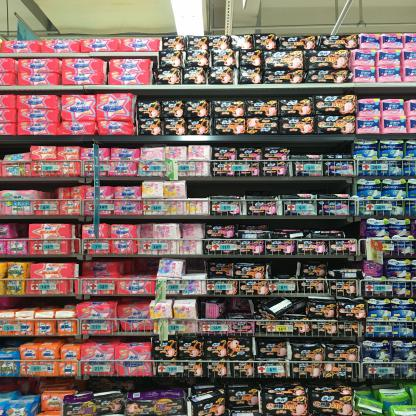Void: (188, 181, 352, 193), (288, 144, 354, 155), (361, 88, 414, 99), (124, 256, 155, 274), (272, 258, 298, 274), (15, 219, 30, 238), (5, 138, 27, 150), (187, 259, 207, 272)
